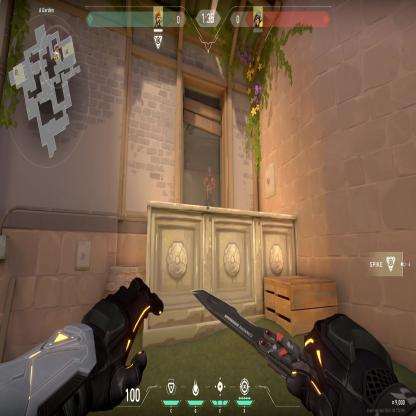enemy: (202, 165, 216, 206)
